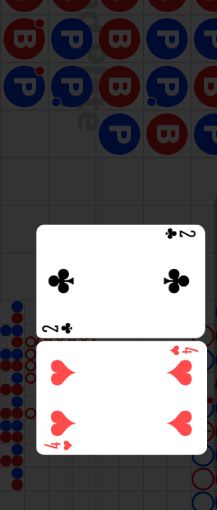2C: (162, 228, 197, 242)
4H: (168, 345, 199, 358)
